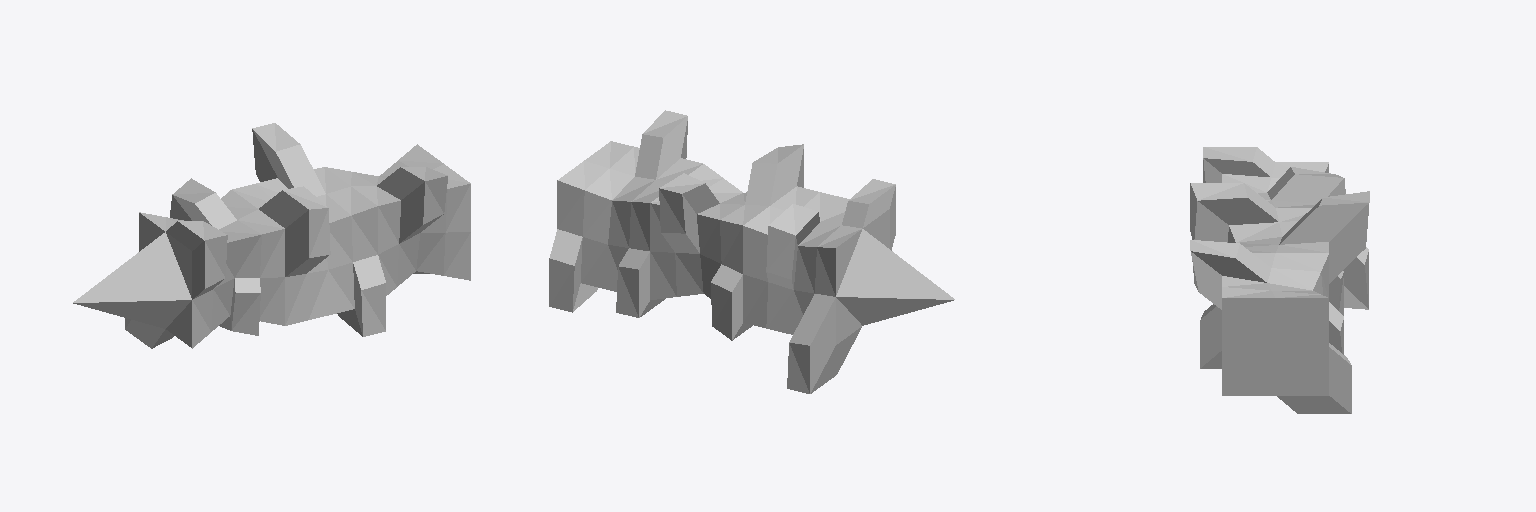
File: IceBolt.obj
3 renders of one model, left to right at view 1: azimuth 30°, elevation 25°; view 2: azimuth 150°, elevation 25°; view 3: azimuth 270°, elevation 25°, orthographic.
Visible parts, largest first — view 1: IceBolt; view 2: IceBolt; view 3: IceBolt.
Part boxes in pixels (x1,y1,x2,y2): IceBolt: (73,123,470,348); IceBolt: (549,110,954,393); IceBolt: (1190,147,1369,413).
Bounding box in the file's own units: 3.99 × 1.74 × 1.67.